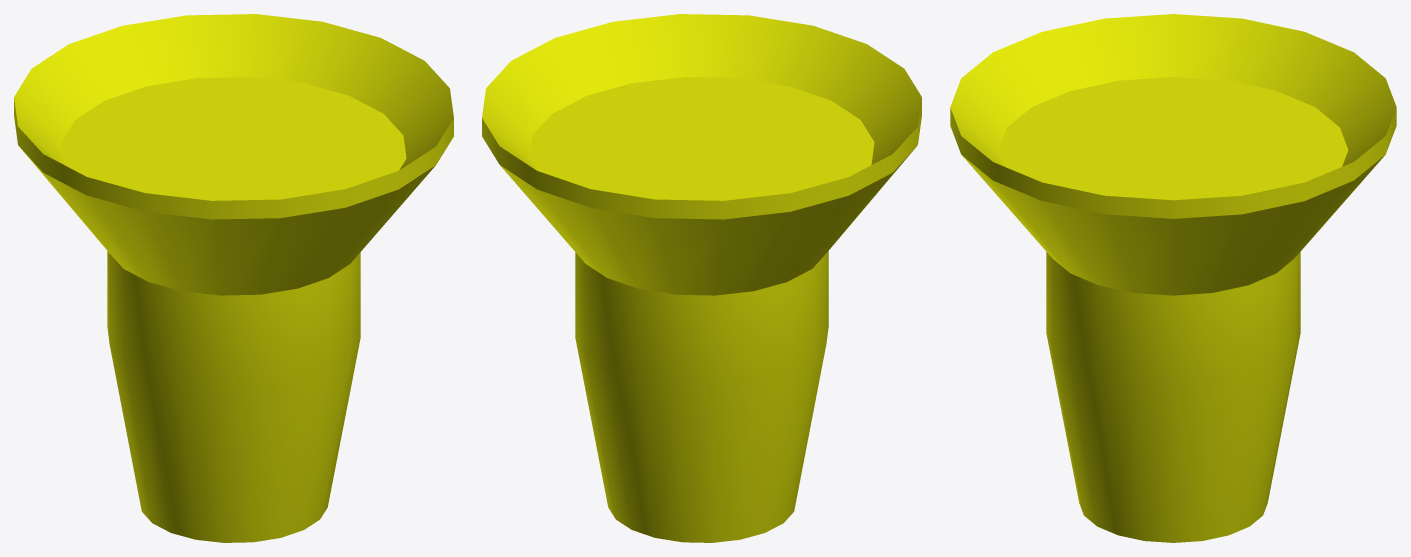
Rendered from SolidSpaceship.fbx.
The picture shows the model from 3 angles, left to right: view 1: azimuth 30°, elevation 25°; view 2: azimuth 150°, elevation 25°; view 3: azimuth 270°, elevation 25°; orthographic projection.
Visible parts, largest first — view 1: YellowSpaceship; view 2: YellowSpaceship; view 3: YellowSpaceship.
Boxes of the visible parts, <box> form: YellowSpaceship: <box>14,14,453,542</box>; YellowSpaceship: <box>482,14,921,542</box>; YellowSpaceship: <box>950,14,1396,542</box>.
Size of the model in its own units: 4.68 by 4.64 by 4.74.
